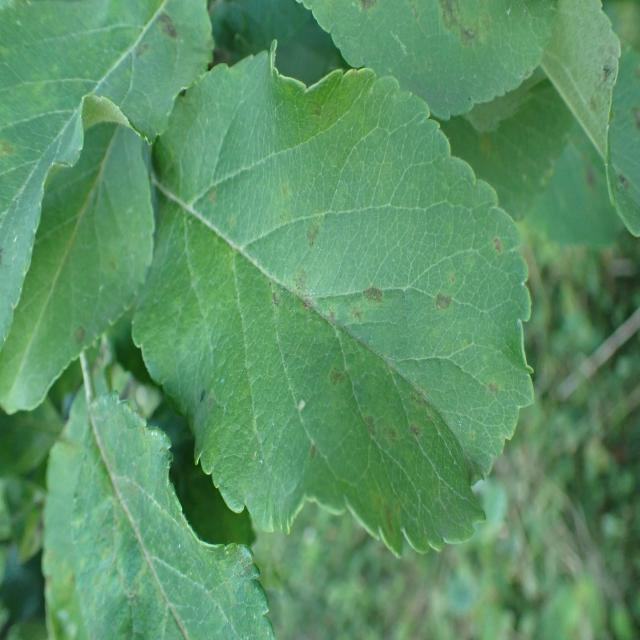scab: (172, 80, 515, 526), (53, 381, 189, 640), (541, 0, 640, 203), (308, 0, 506, 70), (0, 0, 59, 195), (105, 7, 214, 90), (89, 238, 132, 289), (58, 321, 94, 356)
